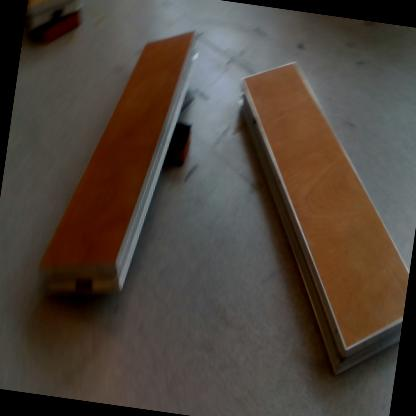Stairs: (241, 57, 410, 380), (39, 33, 199, 298), (27, 1, 81, 28)
